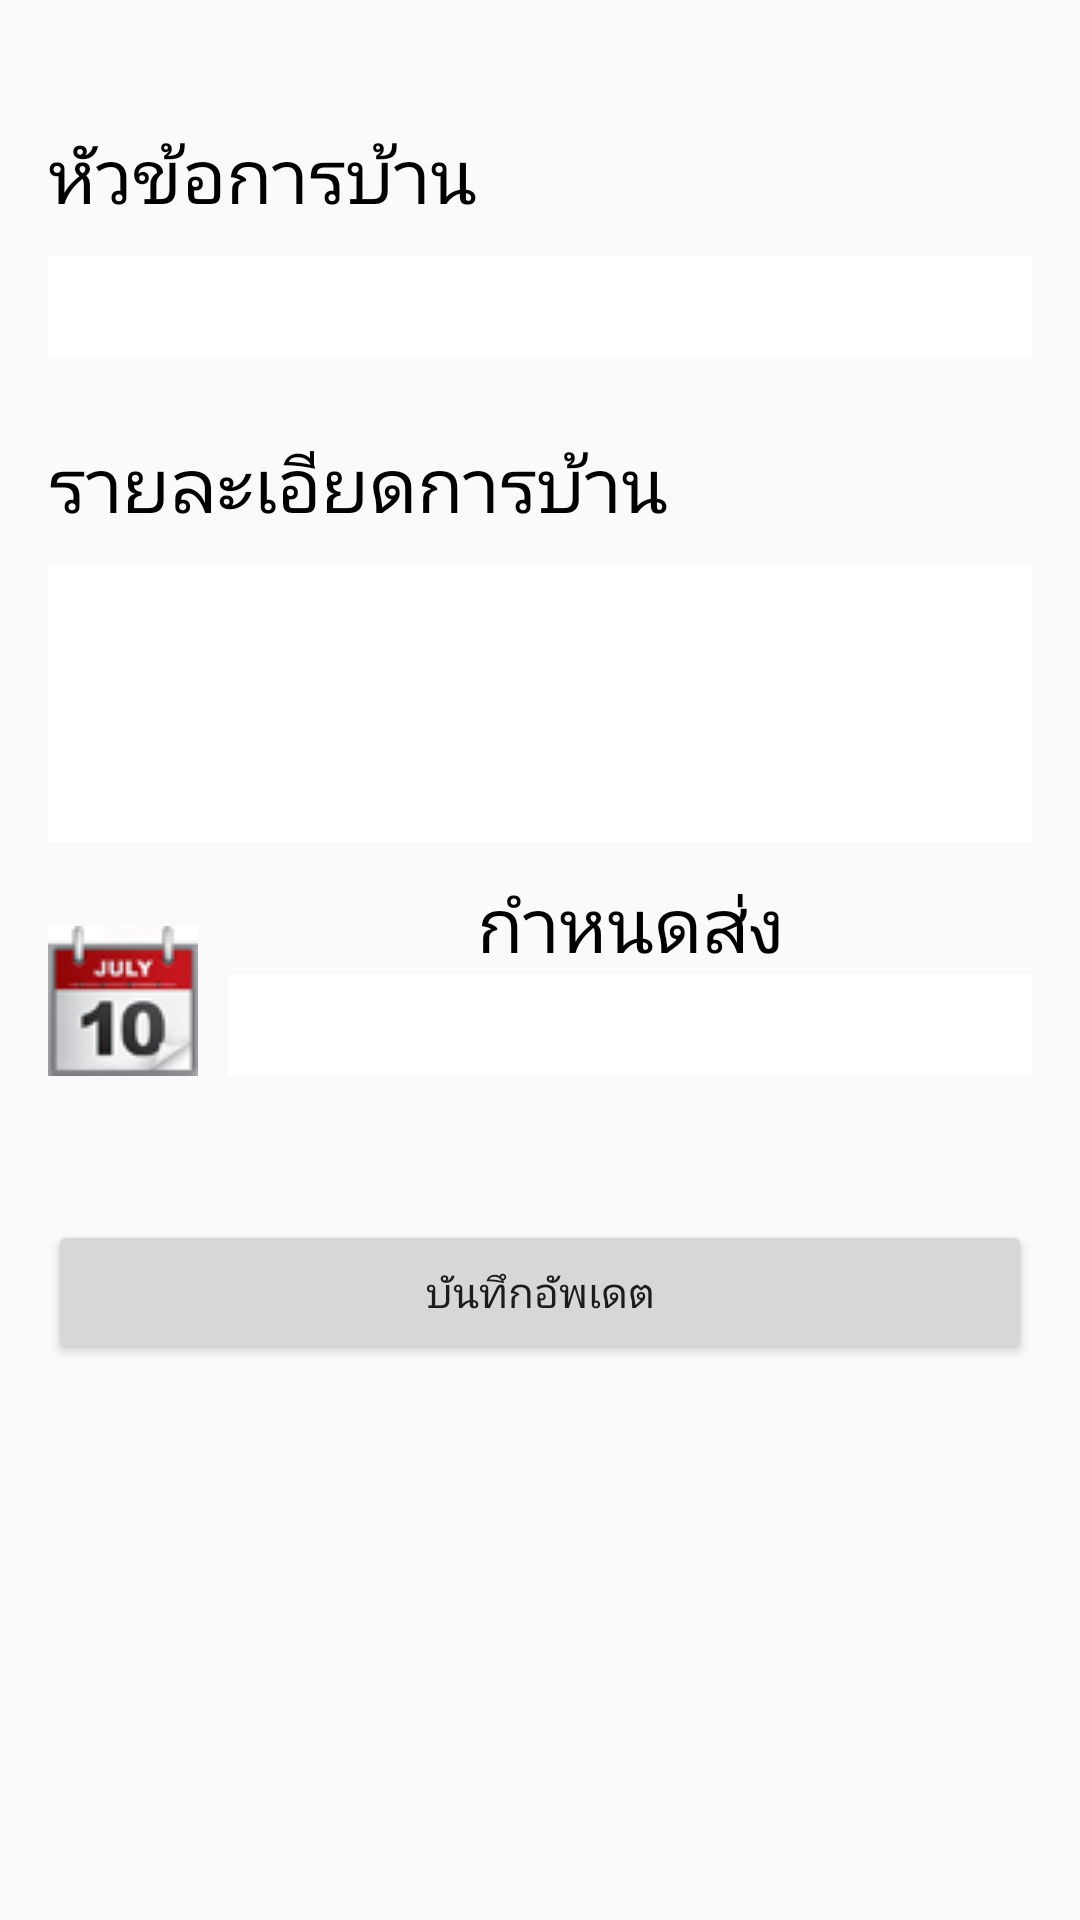

Where icons sit on this 1080w x 1920h app screen, as (x1, y1, x2, y2):
calen: (48, 926, 198, 1076)
